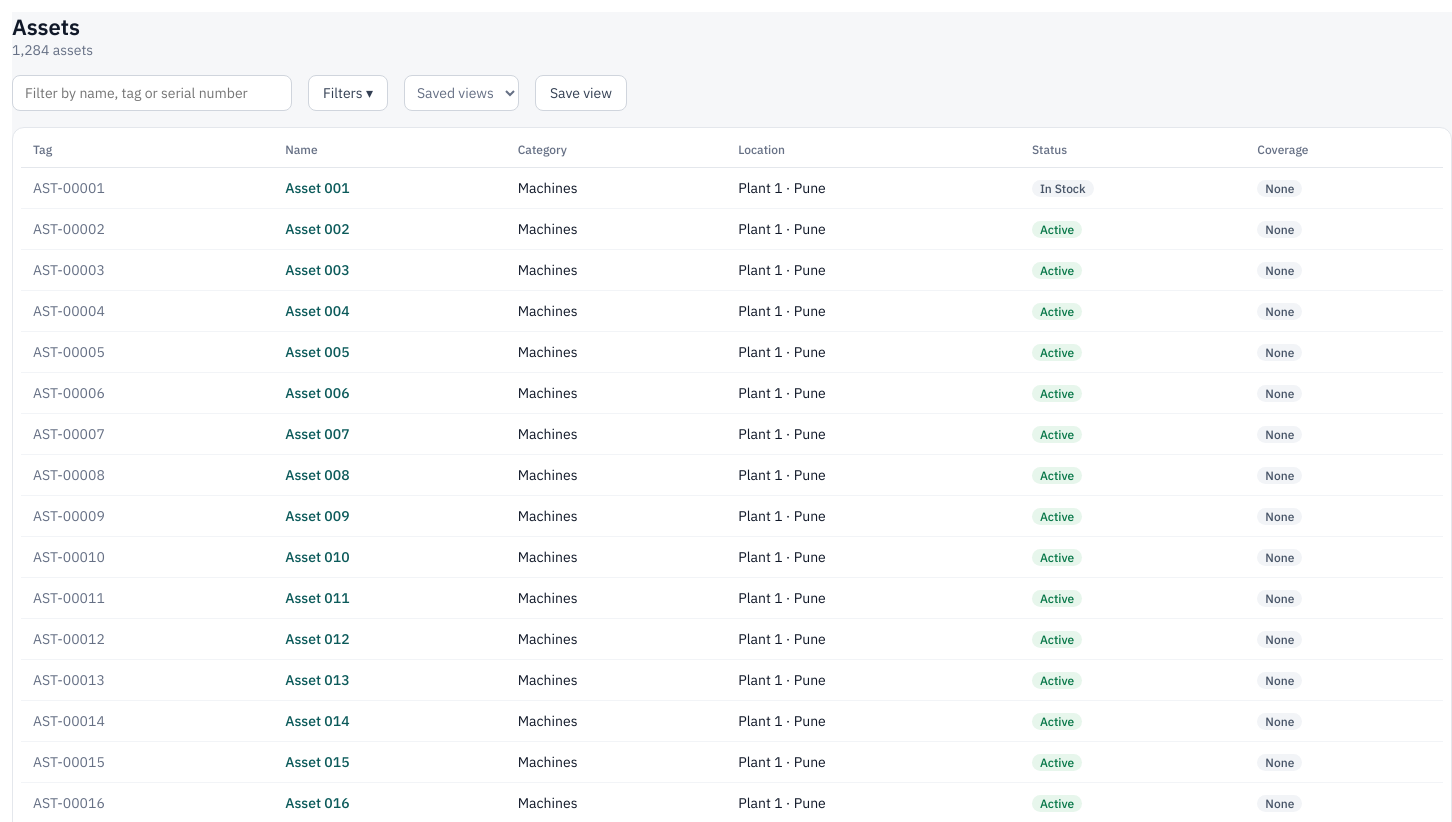
Test case: panel: closed by default; coverage filter sends p_coverage; chips show and remove filters; Clear all
Click the button "Filters ▾": [348, 93] box [308,75,388,111]
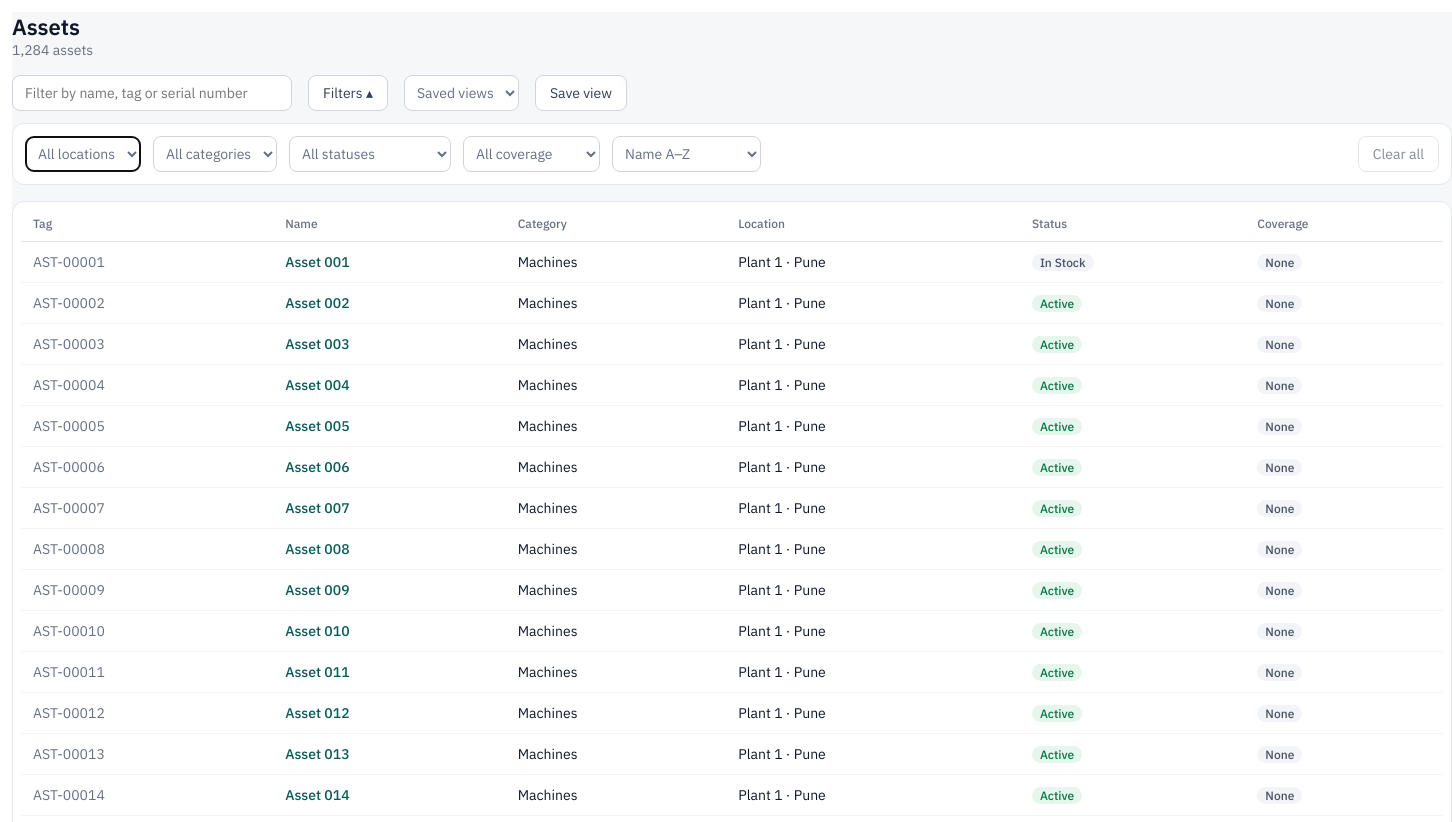
Select "Expiring" in the dropdown named "Coverage": [532, 154] box [463,136,600,172]
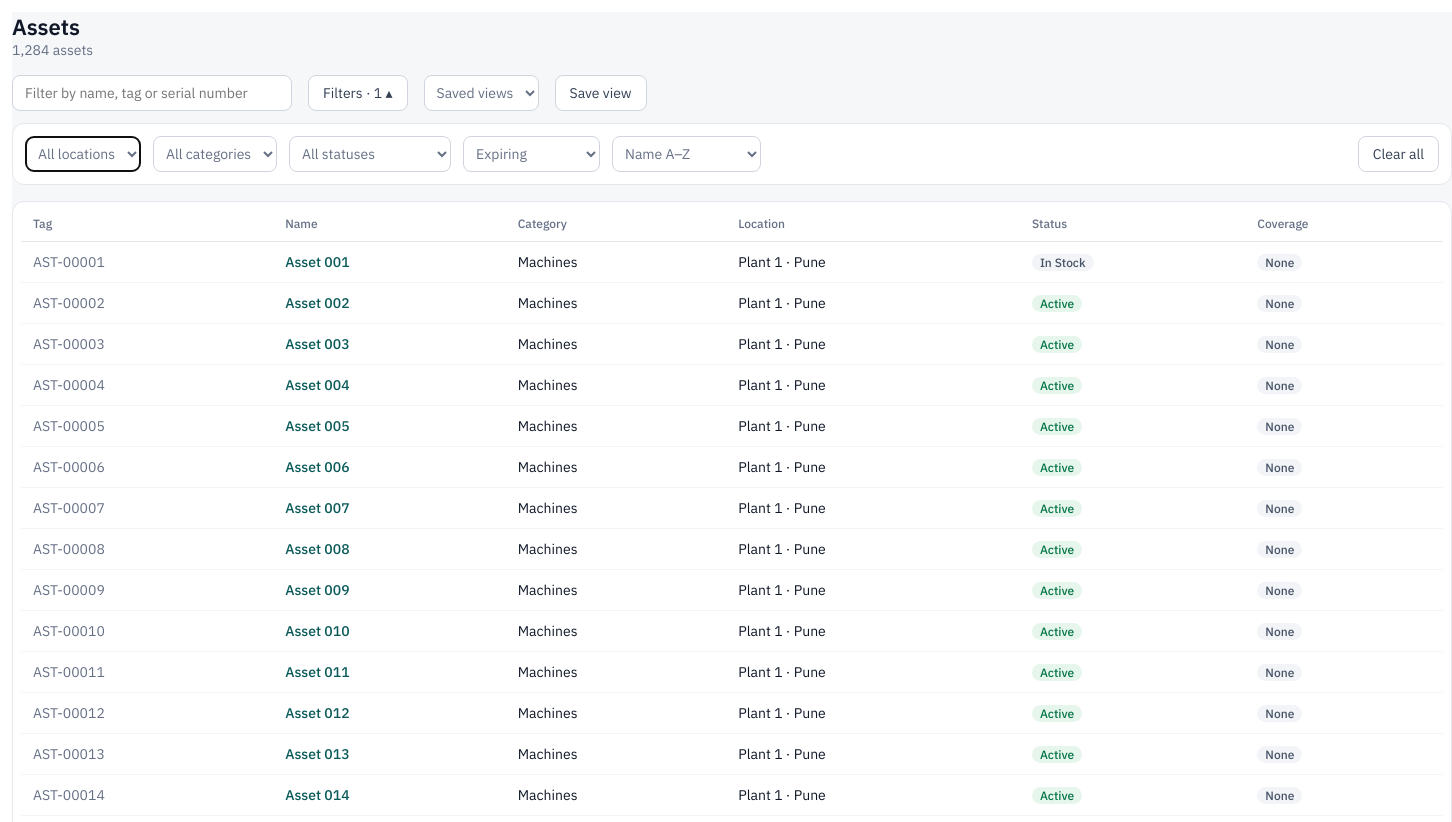
Select "Pune" in the dropdown named "Location": [83, 154] box [25,136,141,172]
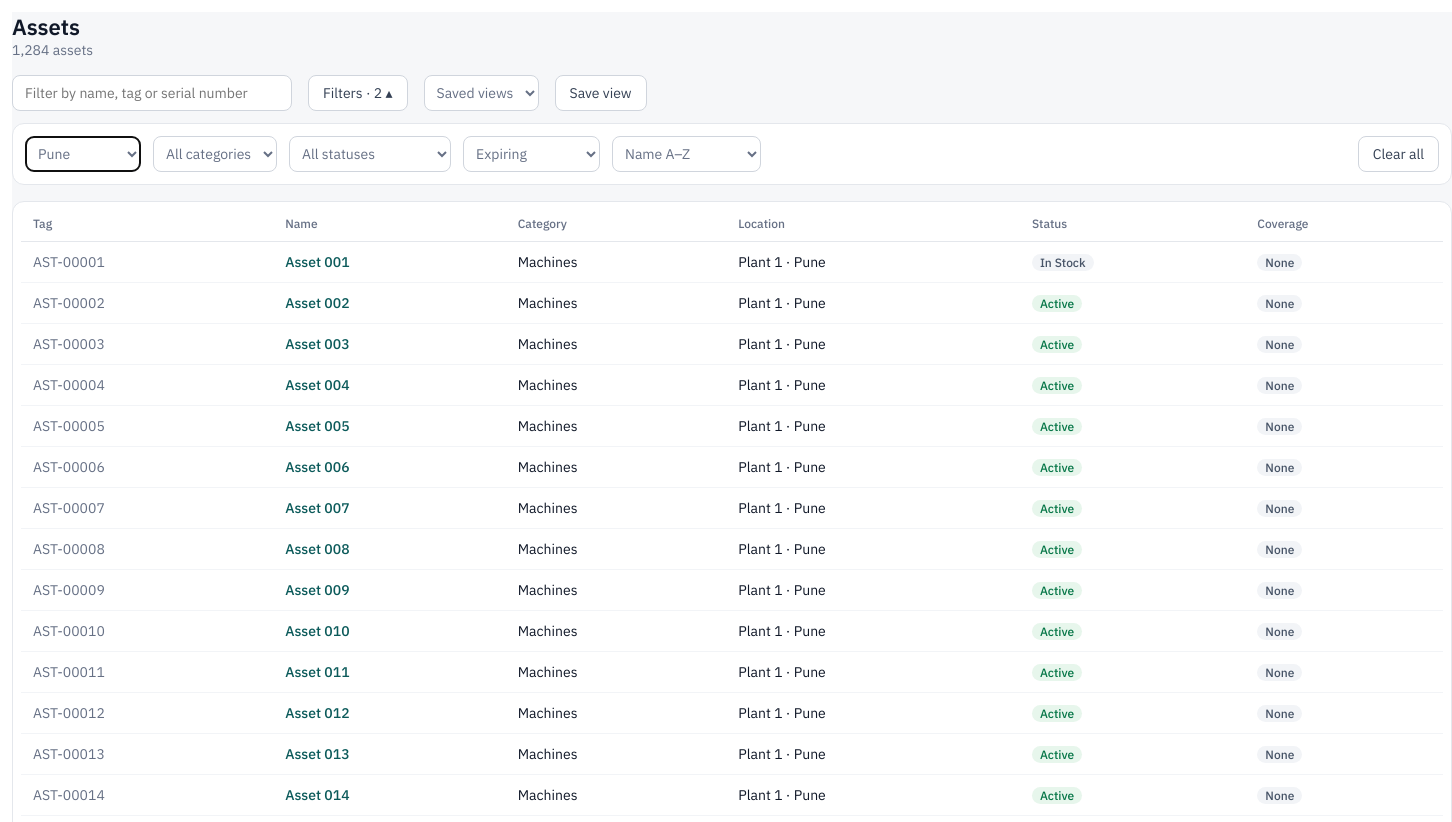
Click the button "Filters · 2 ▴": [358, 93] box [308,75,408,111]
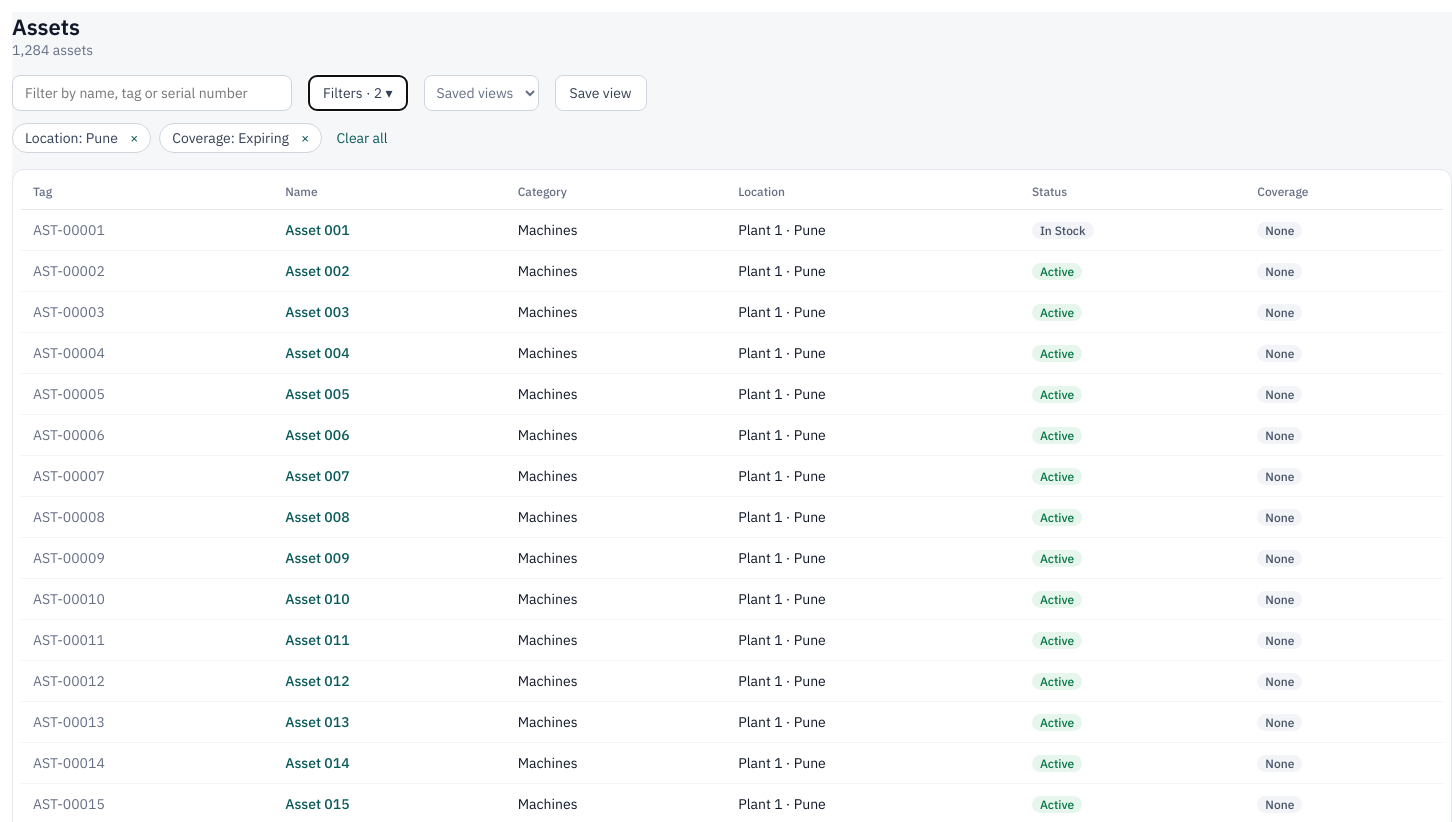
Expected: the button "Filters · 2 ▾" is collapsed, [308,75,408,111]
Click the button named "Remove filter Location: Pune": [134, 138] box [124,129,144,147]
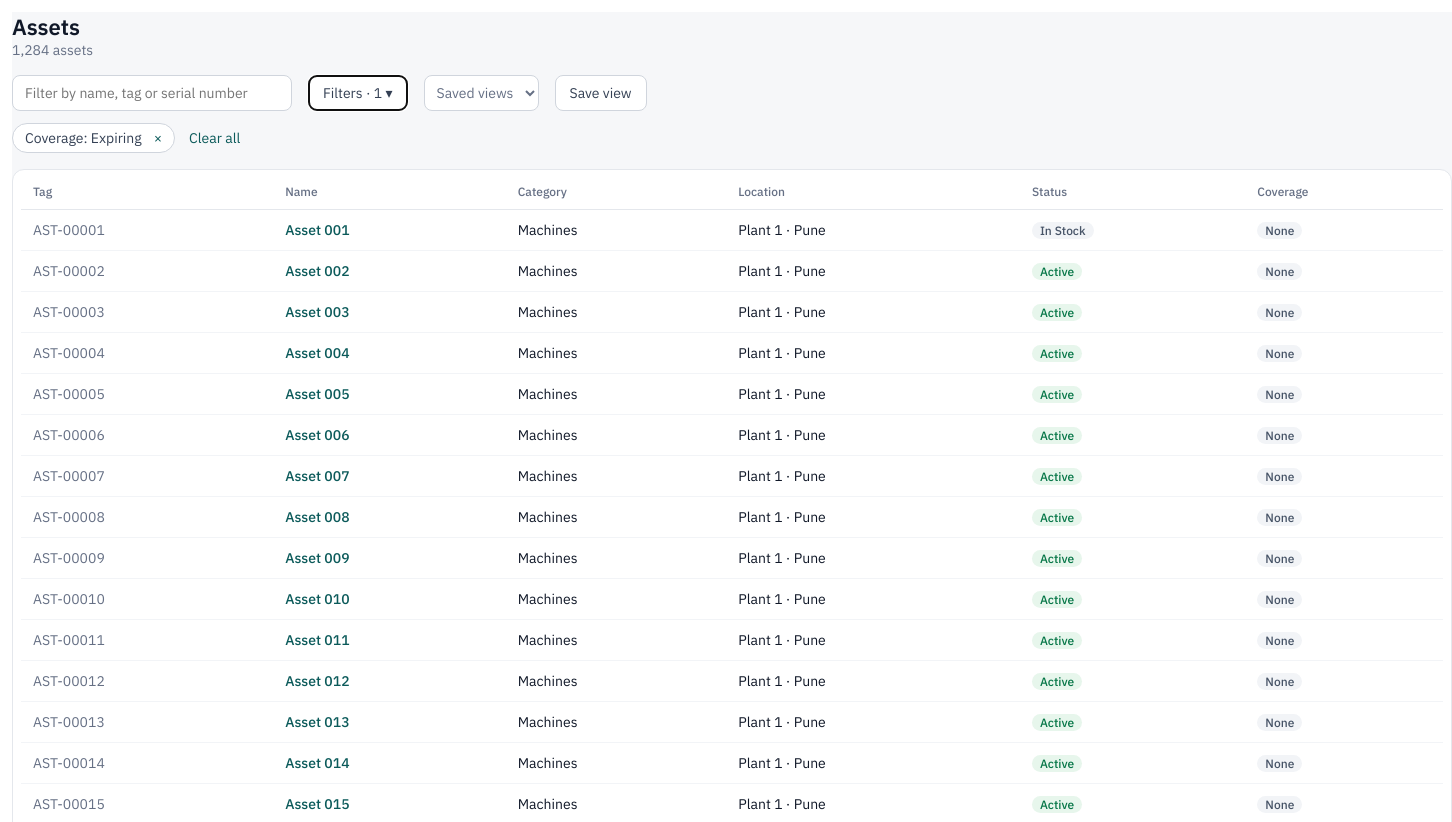
Click the button "Clear all": [215, 138] box [183,129,246,147]
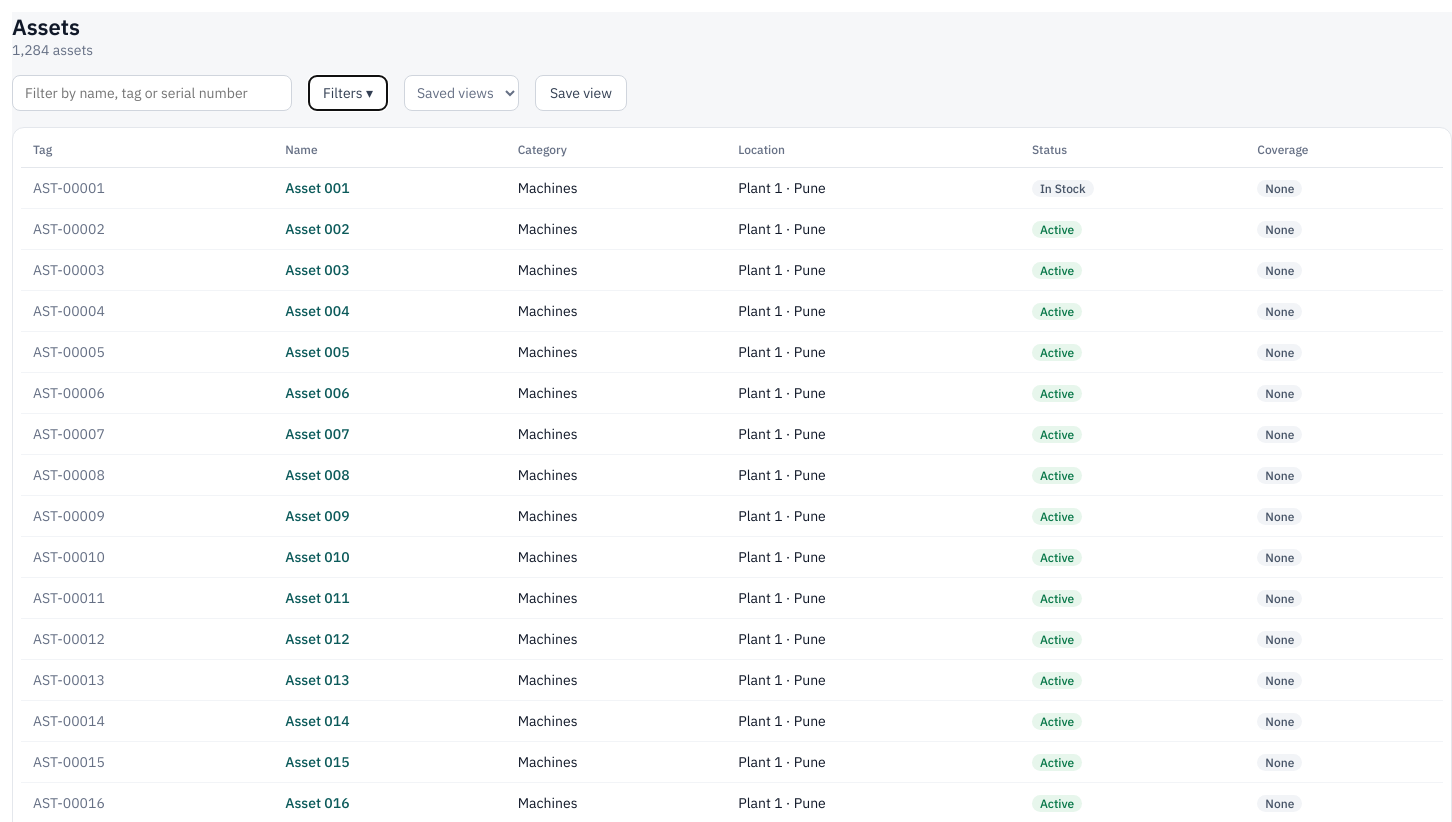
Expected: no elements with class "chip" are shown
Expected: the button no longer shows "·"
